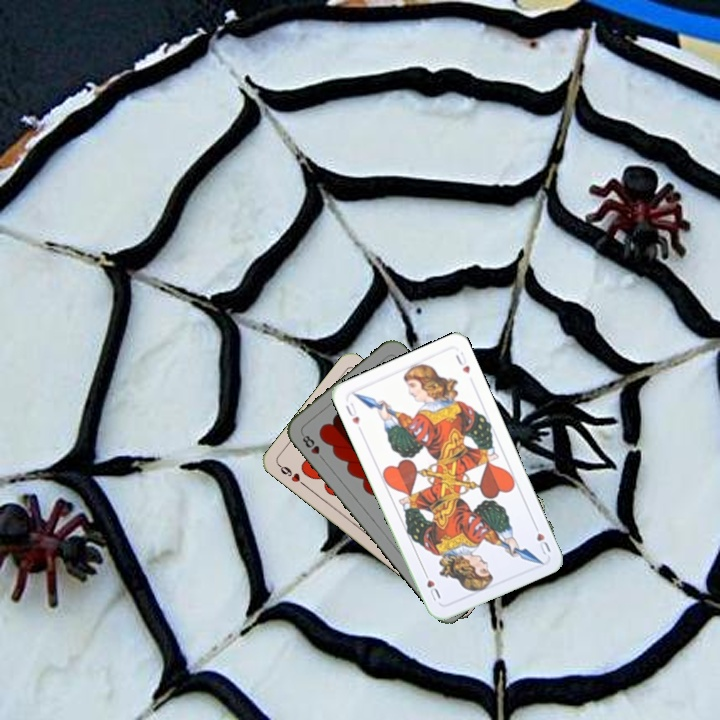H8: (298, 429, 328, 464)
H9: (275, 460, 309, 490)
HU: (529, 519, 553, 557), (342, 398, 362, 427)
